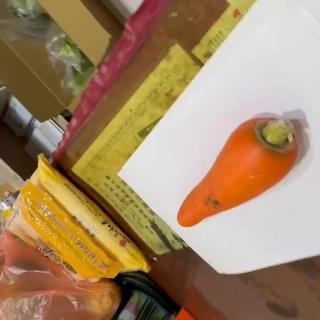carrot: (176, 116, 300, 228)
